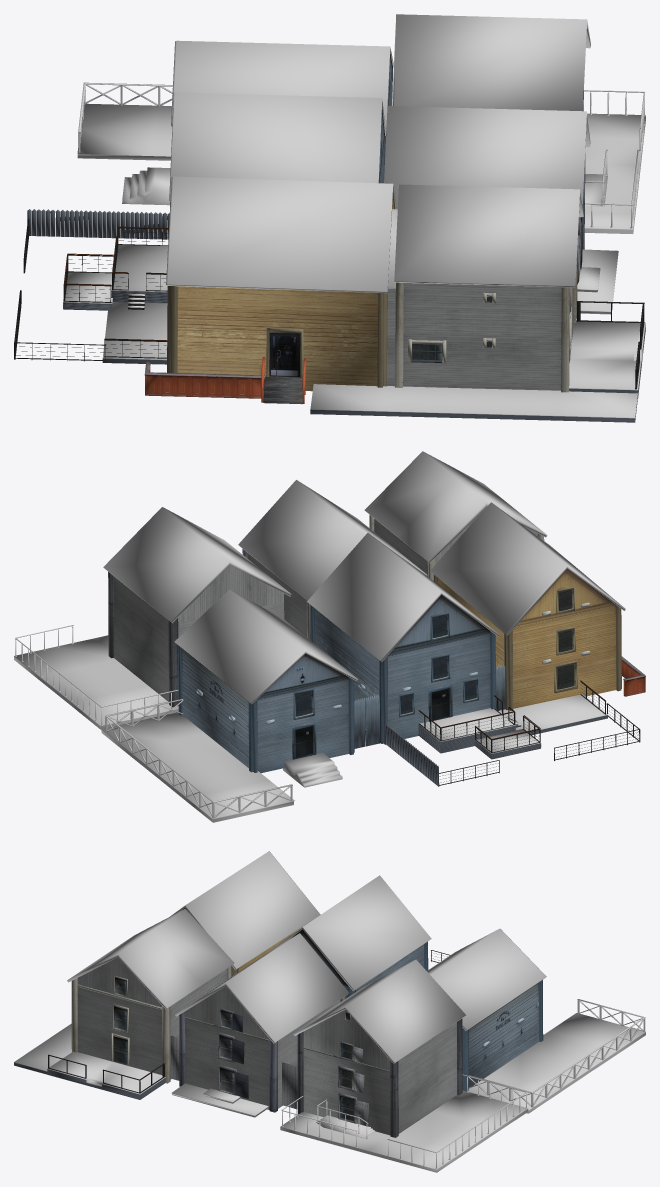
File: marketsquare_aitat.fbx
3 views of the same model, one above another, from view 1: azimuth 30°, elevation 25°; view 2: azimuth 150°, elevation 25°; view 3: azimuth 270°, elevation 25° (orthographic). The views are drawn at different scales.
Parts seen in each view (by area): view 1: marketsquare_aitat; view 2: marketsquare_aitat; view 3: marketsquare_aitat.
Part boxes in pixels (left/top/right/bottom): marketsquare_aitat: left=14, top=14, right=645, bottom=422; marketsquare_aitat: left=14, top=451, right=645, bottom=822; marketsquare_aitat: left=14, top=851, right=645, bottom=1172.
Bounding box in the file's own units: 3476 × 3836 × 861.
